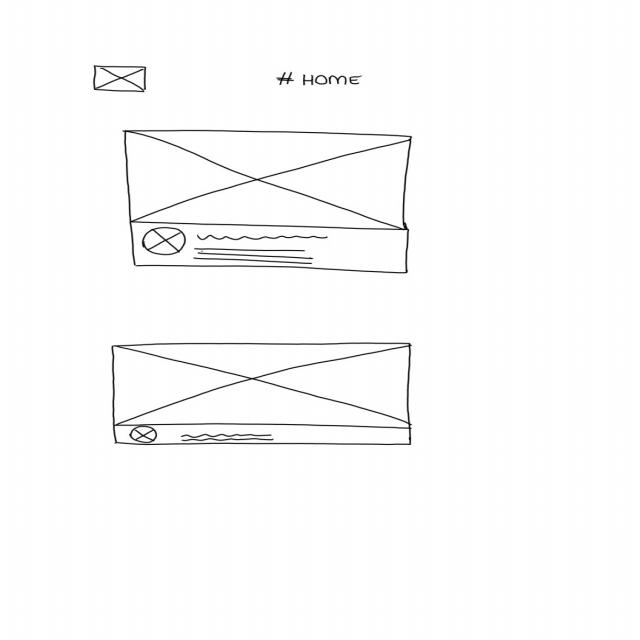image: (124, 130, 413, 231), (112, 343, 415, 429), (92, 65, 150, 94), (140, 227, 188, 258), (129, 425, 160, 445)
label: (278, 71, 367, 90)
text: (197, 234, 331, 243)
textbox: (193, 246, 318, 267), (177, 431, 279, 443)
